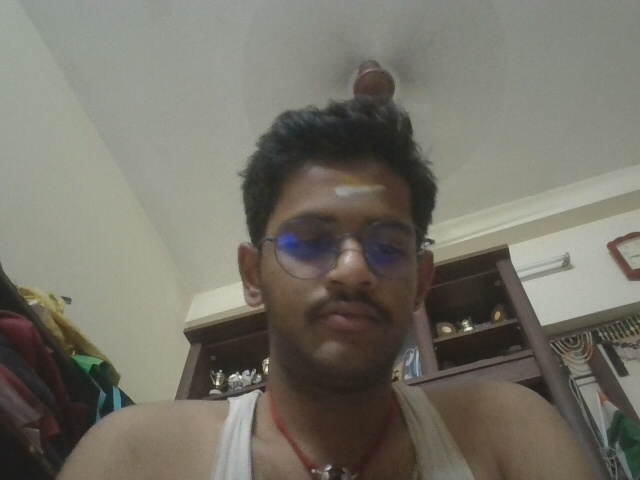real: (246, 160, 448, 362)
